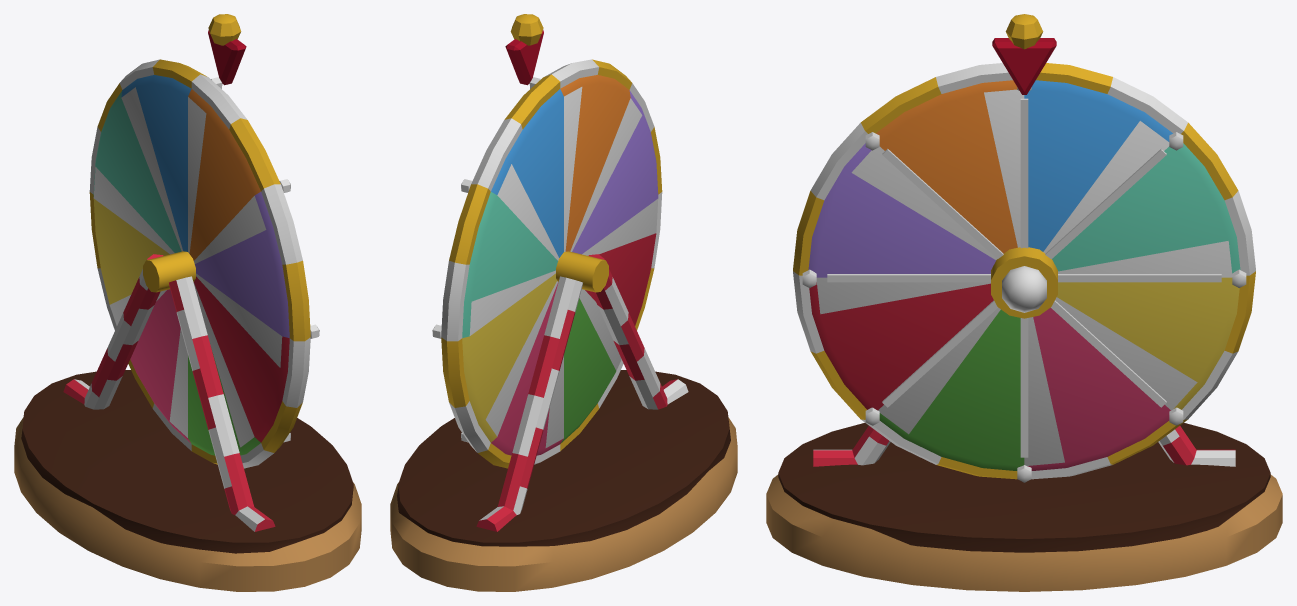
Rendered from stand_wheel.glb.
The picture shows the model from 3 angles, left to right: view 1: azimuth 30°, elevation 25°; view 2: azimuth 150°, elevation 25°; view 3: azimuth 270°, elevation 25°; orthographic projection. The views are drawn at different scales.
Parts seen in each view (by area): view 1: stand_wheel; view 2: stand_wheel; view 3: stand_wheel.
Part boxes in pixels (x1=…): stand_wheel: x1=14, y1=14, x2=361, y2=591; stand_wheel: x1=390, y1=14, x2=737, y2=591; stand_wheel: x1=766, y1=14, x2=1282, y2=591.
Bounding box in the file's own units: 2.1 × 3.72 × 3.3.
